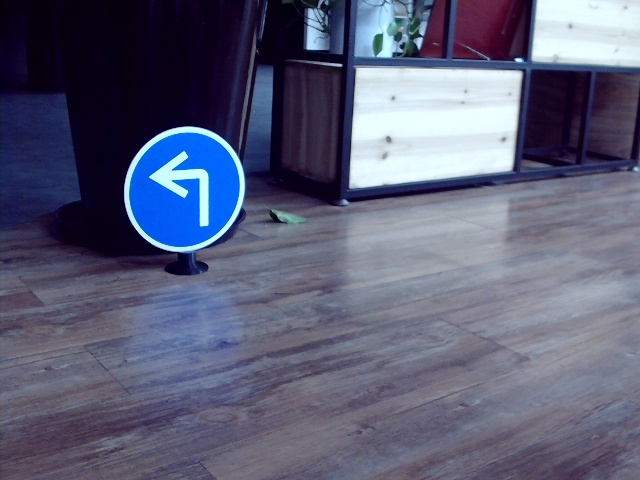turn_left: (147, 149, 223, 227)
